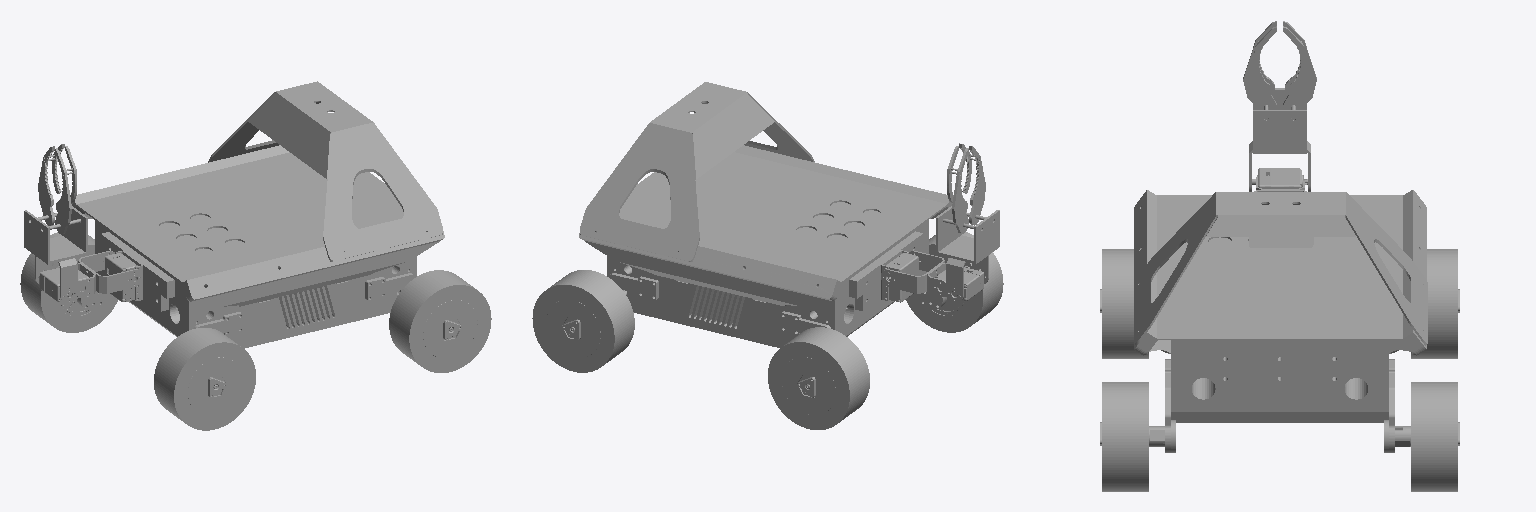
--- Facts derived from the render (not from the file) ---
3 views of the same robot in one strip: view 1: azimuth 30°, elevation 25°; view 2: azimuth 150°, elevation 25°; view 3: azimuth 270°, elevation 25° (orthographic).
Model v6 with 24 links and 23 joints (8 continuous, 15 fixed), rooted at base_link, posed all joints at 0.
Visible links, largest first — view 1: upper_blue_v1_1, upper_silver_v1_1, base_link, new_wheel_v1_1, new_wheel_v1__2__1, new_wheel_v1__2___1__1, grap_base_v1_1, big_U_self_v2_1, grap2_v2_Mirror__1, grap2_v2_1, big_U_self_v2__1__1, car_stand_v2_1 (+3 smaller); view 2: upper_blue_v1_1, upper_silver_v1_1, base_link, new_wheel_v1__2___1__1, new_wheel_v1__1__1, new_wheel_v1__2__1, grap_base_v1_1, big_U_self_v2_1, grap2_v2_1, grap2_v2_Mirror__1, big_U_self_v2__1__1, car_stand_v2__1__1 (+3 smaller); view 3: upper_blue_v1_1, base_link, upper_silver_v1_1, new_wheel_v1_1, new_wheel_v1__1__1, new_wheel_v1__2__1, new_wheel_v1__2___1__1, grap_base_v1_1, grap2_v2_1, grap2_v2_Mirror__1, new_motor_v2__1__1, car_stand_v2_1 (+1 smaller).
Boxes of the visible links, x1=… form: upper_blue_v1_1: x1=72, y1=145, x2=444, y2=306; upper_silver_v1_1: x1=208, y1=81, x2=442, y2=261; base_link: x1=95, y1=215, x2=416, y2=348; new_wheel_v1_1: x1=389, y1=270, x2=491, y2=372; new_wheel_v1__2__1: x1=154, y1=328, x2=255, y2=430; new_wheel_v1__2___1__1: x1=20, y1=232, x2=117, y2=332; grap_base_v1_1: x1=24, y1=206, x2=87, y2=264; big_U_self_v2_1: x1=78, y1=251, x2=142, y2=293; grap2_v2_Mirror__1: x1=55, y1=146, x2=76, y2=234; grap2_v2_1: x1=38, y1=144, x2=64, y2=225; big_U_self_v2__1__1: x1=35, y1=256, x2=77, y2=303; car_stand_v2_1: x1=365, y1=273, x2=415, y2=300; upper_blue_v1_1: x1=579, y1=145, x2=952, y2=306; upper_silver_v1_1: x1=580, y1=82, x2=814, y2=261; base_link: x1=607, y1=202, x2=928, y2=347; new_wheel_v1__2___1__1: x1=768, y1=327, x2=869, y2=429; new_wheel_v1__1__1: x1=532, y1=270, x2=634, y2=372; new_wheel_v1__2__1: x1=906, y1=232, x2=1003, y2=332; grap_base_v1_1: x1=936, y1=206, x2=999, y2=263; big_U_self_v2_1: x1=881, y1=251, x2=944, y2=293; grap2_v2_1: x1=947, y1=146, x2=968, y2=233; grap2_v2_Mirror__1: x1=959, y1=143, x2=985, y2=225; big_U_self_v2__1__1: x1=946, y1=255, x2=988, y2=302; car_stand_v2__1__1: x1=608, y1=273, x2=658, y2=300; upper_blue_v1_1: x1=1134, y1=190, x2=1426, y2=355; base_link: x1=1171, y1=237, x2=1388, y2=422; upper_silver_v1_1: x1=1135, y1=192, x2=1427, y2=345; new_wheel_v1_1: x1=1100, y1=382, x2=1164, y2=491; new_wheel_v1__1__1: x1=1395, y1=382, x2=1459, y2=491; new_wheel_v1__2__1: x1=1100, y1=249, x2=1148, y2=358; new_wheel_v1__2___1__1: x1=1411, y1=249, x2=1459, y2=358; grap_base_v1_1: x1=1253, y1=88, x2=1306, y2=153; grap2_v2_1: x1=1283, y1=21, x2=1316, y2=109; grap2_v2_Mirror__1: x1=1243, y1=21, x2=1276, y2=109; new_motor_v2__1__1: x1=1252, y1=168, x2=1307, y2=188; car_stand_v2_1: x1=1165, y1=359, x2=1170, y2=452.
Size in the robot's own frame: 0.4641 by 0.3306 by 0.2882 metres.
Meshes: 24 distinct files referenced, 24 mesh visuals loaded (24 binary STL).

The robot description file, URDF, robot "v6":
<?xml version="1.0" ?>
<!--===================================================================================-->
<!-- Autogenerated from v6.xacro -->
<!-- EDITING THIS FILE BY HAND IS NOT RECOMMENDED -->
<!--===================================================================================-->
<robot name="v6" xmlns:xacro="http://www.ros.org/wiki/xacro">
  <material name="silver">
    <color rgba="0.700 0.700 0.700 1.000"/>
  </material>
  <transmission name="Revolute 29_tran">
    <type>transmission_interface/SimpleTransmission</type>
    <joint name="Revolute 29">
      <hardwareInterface>hardware_interface/EffortJointInterface</hardwareInterface>
    </joint>
    <actuator name="Revolute 29_actr">
      <hardwareInterface>hardware_interface/EffortJointInterface</hardwareInterface>
      <mechanicalReduction>1</mechanicalReduction>
    </actuator>
  </transmission>
  <transmission name="Revolute 32_tran">
    <type>transmission_interface/SimpleTransmission</type>
    <joint name="Revolute 32">
      <hardwareInterface>hardware_interface/EffortJointInterface</hardwareInterface>
    </joint>
    <actuator name="Revolute 32_actr">
      <hardwareInterface>hardware_interface/EffortJointInterface</hardwareInterface>
      <mechanicalReduction>1</mechanicalReduction>
    </actuator>
  </transmission>
  <transmission name="Revolute 35_tran">
    <type>transmission_interface/SimpleTransmission</type>
    <joint name="Revolute 35">
      <hardwareInterface>hardware_interface/EffortJointInterface</hardwareInterface>
    </joint>
    <actuator name="Revolute 35_actr">
      <hardwareInterface>hardware_interface/EffortJointInterface</hardwareInterface>
      <mechanicalReduction>1</mechanicalReduction>
    </actuator>
  </transmission>
  <transmission name="Revolute 38_tran">
    <type>transmission_interface/SimpleTransmission</type>
    <joint name="Revolute 38">
      <hardwareInterface>hardware_interface/EffortJointInterface</hardwareInterface>
    </joint>
    <actuator name="Revolute 38_actr">
      <hardwareInterface>hardware_interface/EffortJointInterface</hardwareInterface>
      <mechanicalReduction>1</mechanicalReduction>
    </actuator>
  </transmission>
  <transmission name="Revolute 41_tran">
    <type>transmission_interface/SimpleTransmission</type>
    <joint name="Revolute 41">
      <hardwareInterface>hardware_interface/EffortJointInterface</hardwareInterface>
    </joint>
    <actuator name="Revolute 41_actr">
      <hardwareInterface>hardware_interface/EffortJointInterface</hardwareInterface>
      <mechanicalReduction>1</mechanicalReduction>
    </actuator>
  </transmission>
  <transmission name="Revolute 44_tran">
    <type>transmission_interface/SimpleTransmission</type>
    <joint name="Revolute 44">
      <hardwareInterface>hardware_interface/EffortJointInterface</hardwareInterface>
    </joint>
    <actuator name="Revolute 44_actr">
      <hardwareInterface>hardware_interface/EffortJointInterface</hardwareInterface>
      <mechanicalReduction>1</mechanicalReduction>
    </actuator>
  </transmission>
  <transmission name="Revolute 48_tran">
    <type>transmission_interface/SimpleTransmission</type>
    <joint name="Revolute 48">
      <hardwareInterface>hardware_interface/EffortJointInterface</hardwareInterface>
    </joint>
    <actuator name="Revolute 48_actr">
      <hardwareInterface>hardware_interface/EffortJointInterface</hardwareInterface>
      <mechanicalReduction>1</mechanicalReduction>
    </actuator>
  </transmission>
  <transmission name="Revolute 49_tran">
    <type>transmission_interface/SimpleTransmission</type>
    <joint name="Revolute 49">
      <hardwareInterface>hardware_interface/EffortJointInterface</hardwareInterface>
    </joint>
    <actuator name="Revolute 49_actr">
      <hardwareInterface>hardware_interface/EffortJointInterface</hardwareInterface>
      <mechanicalReduction>1</mechanicalReduction>
    </actuator>
  </transmission>
  <gazebo>
    <plugin filename="libgazebo_ros_control.so" name="control"/>
  </gazebo>
  <gazebo reference="base_link">
    <material>Gazebo/Silver</material>
    <mu1>0.2</mu1>
    <mu2>0.2</mu2>
    <selfCollide>true</selfCollide>
    <gravity>true</gravity>
  </gazebo>
  <gazebo reference="upper_blue_v1_1">
    <material>Gazebo/Silver</material>
    <mu1>0.2</mu1>
    <mu2>0.2</mu2>
    <selfCollide>true</selfCollide>
  </gazebo>
  <gazebo reference="upper_silver_v1_1">
    <material>Gazebo/Silver</material>
    <mu1>0.2</mu1>
    <mu2>0.2</mu2>
    <selfCollide>true</selfCollide>
  </gazebo>
  <gazebo reference="Side_U_Bracket_Component1_v2_1">
    <material>Gazebo/Silver</material>
    <mu1>0.2</mu1>
    <mu2>0.2</mu2>
    <selfCollide>true</selfCollide>
  </gazebo>
  <gazebo reference="new_motor_v2_1">
    <material>Gazebo/Silver</material>
    <mu1>0.2</mu1>
    <mu2>0.2</mu2>
    <selfCollide>true</selfCollide>
  </gazebo>
  <gazebo reference="car_stand_v2_1">
    <material>Gazebo/Silver</material>
    <mu1>0.2</mu1>
    <mu2>0.2</mu2>
    <selfCollide>true</selfCollide>
  </gazebo>
  <gazebo reference="car_stand_2_v2_v1_1">
    <material>Gazebo/Silver</material>
    <mu1>0.2</mu1>
    <mu2>0.2</mu2>
    <selfCollide>true</selfCollide>
  </gazebo>
  <gazebo reference="new_wheel_v1_1">
    <material>Gazebo/Silver</material>
    <mu1>0.2</mu1>
    <mu2>0.2</mu2>
    <selfCollide>true</selfCollide>
  </gazebo>
  <gazebo reference="car_stand_v2__1__1">
    <material>Gazebo/Silver</material>
    <mu1>0.2</mu1>
    <mu2>0.2</mu2>
    <selfCollide>true</selfCollide>
  </gazebo>
  <gazebo reference="car_stand_2_v2_v1__1__1">
    <material>Gazebo/Silver</material>
    <mu1>0.2</mu1>
    <mu2>0.2</mu2>
    <selfCollide>true</selfCollide>
  </gazebo>
  <gazebo reference="new_wheel_v1__1__1">
    <material>Gazebo/Silver</material>
    <mu1>0.2</mu1>
    <mu2>0.2</mu2>
    <selfCollide>true</selfCollide>
  </gazebo>
  <gazebo reference="car_stand_v2__2__1">
    <material>Gazebo/Silver</material>
    <mu1>0.2</mu1>
    <mu2>0.2</mu2>
    <selfCollide>true</selfCollide>
  </gazebo>
  <gazebo reference="car_stand_2_v2_v1__2__1">
    <material>Gazebo/Silver</material>
    <mu1>0.2</mu1>
    <mu2>0.2</mu2>
    <selfCollide>true</selfCollide>
  </gazebo>
  <gazebo reference="new_wheel_v1__2__1">
    <material>Gazebo/Silver</material>
    <mu1>0.2</mu1>
    <mu2>0.2</mu2>
    <selfCollide>true</selfCollide>
  </gazebo>
  <gazebo reference="car_stand_v2__2___1__1">
    <material>Gazebo/Silver</material>
    <mu1>0.2</mu1>
    <mu2>0.2</mu2>
    <selfCollide>true</selfCollide>
  </gazebo>
  <gazebo reference="car_stand_2_v2_v1__2___1__1">
    <material>Gazebo/Silver</material>
    <mu1>0.2</mu1>
    <mu2>0.2</mu2>
    <selfCollide>true</selfCollide>
  </gazebo>
  <gazebo reference="new_wheel_v1__2___1__1">
    <material>Gazebo/Silver</material>
    <mu1>0.2</mu1>
    <mu2>0.2</mu2>
    <selfCollide>true</selfCollide>
  </gazebo>
  <gazebo reference="big_U_self_v2_1">
    <material>Gazebo/Silver</material>
    <mu1>0.2</mu1>
    <mu2>0.2</mu2>
    <selfCollide>true</selfCollide>
  </gazebo>
  <gazebo reference="small_U_self_v3_v2_1">
    <material>Gazebo/Silver</material>
    <mu1>0.2</mu1>
    <mu2>0.2</mu2>
    <selfCollide>true</selfCollide>
  </gazebo>
  <gazebo reference="new_motor_v2__1__1">
    <material>Gazebo/Silver</material>
    <mu1>0.2</mu1>
    <mu2>0.2</mu2>
    <selfCollide>true</selfCollide>
  </gazebo>
  <gazebo reference="big_U_self_v2__1__1">
    <material>Gazebo/Silver</material>
    <mu1>0.2</mu1>
    <mu2>0.2</mu2>
    <selfCollide>true</selfCollide>
  </gazebo>
  <gazebo reference="grap_base_v1_1">
    <material>Gazebo/Silver</material>
    <mu1>0.2</mu1>
    <mu2>0.2</mu2>
    <selfCollide>true</selfCollide>
  </gazebo>
  <gazebo reference="grap2_v2_1">
    <material>Gazebo/Silver</material>
    <mu1>0.2</mu1>
    <mu2>0.2</mu2>
    <selfCollide>true</selfCollide>
  </gazebo>
  <gazebo reference="grap2_v2_Mirror__1">
    <material>Gazebo/Silver</material>
    <mu1>0.2</mu1>
    <mu2>0.2</mu2>
    <selfCollide>true</selfCollide>
  </gazebo>
  <link name="base_link">
    <inertial>
      <origin rpy="0 0 0" xyz="-0.11553126426818264 0.3343509101041353 0.06210098740688249"/>
      <mass value="37.56290080252228"/>
      <inertia ixx="0.155633" ixy="-0.0" ixz="0.000286" iyy="0.297492" iyz="0.0" izz="0.386843"/>
    </inertial>
    <visual>
      <origin rpy="0 0 0" xyz="0 0 0"/>
      <geometry>
        <mesh filename="package://v6_description/meshes/base_link.stl" scale="0.001 0.001 0.001"/>
      </geometry>
      <material name="silver"/>
    </visual>
    <collision>
      <origin rpy="0 0 0" xyz="0 0 0"/>
      <geometry>
        <mesh filename="package://v6_description/meshes/base_link.stl" scale="0.001 0.001 0.001"/>
      </geometry>
    </collision>
  </link>
  <link name="upper_blue_v1_1">
    <inertial>
      <origin rpy="0 0 0" xyz="0.0009557467788307433 0.0018926108398634733 -0.005546368824775272"/>
      <mass value="2.711654241548037"/>
      <inertia ixx="0.029512" ixy="4.7e-05" ixz="-1.7e-05" iyy="0.020937" iyz="-2e-05" izz="0.049756"/>
    </inertial>
    <visual>
      <origin rpy="0 0 0" xyz="0.114065 -0.334351 -0.110913"/>
      <geometry>
        <mesh filename="package://v6_description/meshes/upper_blue_v1_1.stl" scale="0.001 0.001 0.001"/>
      </geometry>
      <material name="silver"/>
    </visual>
    <collision>
      <origin rpy="0 0 0" xyz="0.114065 -0.334351 -0.110913"/>
      <geometry>
        <mesh filename="package://v6_description/meshes/upper_blue_v1_1.stl" scale="0.001 0.001 0.001"/>
      </geometry>
    </collision>
  </link>
  <link name="upper_silver_v1_1">
    <inertial>
      <origin rpy="0 0 0" xyz="-0.05397145103461684 0.12865565118005895 0.06340297559246169"/>
      <mass value="0.5824308278195107"/>
      <inertia ixx="0.00486" ixy="0.0" ixz="2.4e-05" iyy="0.001444" iyz="-0.0" izz="0.004712"/>
    </inertial>
    <visual>
      <origin rpy="0 0 0" xyz="-0.020935 -0.20677 -0.110239"/>
      <geometry>
        <mesh filename="package://v6_description/meshes/upper_silver_v1_1.stl" scale="0.001 0.001 0.001"/>
      </geometry>
      <material name="silver"/>
    </visual>
    <collision>
      <origin rpy="0 0 0" xyz="-0.020935 -0.20677 -0.110239"/>
      <geometry>
        <mesh filename="package://v6_description/meshes/upper_silver_v1_1.stl" scale="0.001 0.001 0.001"/>
      </geometry>
    </collision>
  </link>
  <link name="Side_U_Bracket_Component1_v2_1">
    <inertial>
      <origin rpy="0 0 0" xyz="-0.0021965017854476687 -8.991875011243877e-08 -8.398858180322377e-05"/>
      <mass value="0.02951040982880665"/>
      <inertia ixx="1.1e-05" ixy="0.0" ixz="-0.0" iyy="4e-06" iyz="-0.0" izz="7e-06"/>
    </inertial>
    <visual>
      <origin rpy="0 0 0" xyz="0.264049 -0.334351 -0.074934"/>
      <geometry>
        <mesh filename="package://v6_description/meshes/Side_U_Bracket_Component1_v2_1.stl" scale="0.001 0.001 0.001"/>
      </geometry>
      <material name="silver"/>
    </visual>
    <collision>
      <origin rpy="0 0 0" xyz="0.264049 -0.334351 -0.074934"/>
      <geometry>
        <mesh filename="package://v6_description/meshes/Side_U_Bracket_Component1_v2_1.stl" scale="0.001 0.001 0.001"/>
      </geometry>
    </collision>
  </link>
  <link name="new_motor_v2_1">
    <inertial>
      <origin rpy="0 0 0" xyz="-0.007329192500702741 -0.022426817930538745 0.017705283950517715"/>
      <mass value="0.2036448419526595"/>
      <inertia ixx="5.1e-05" ixy="-0.0" ixz="-0.0" iyy="3.5e-05" iyz="-0.0" izz="3e-05"/>
    </inertial>
    <visual>
      <origin rpy="0 0 0" xyz="0.271362 -0.354601 -0.057401"/>
      <geometry>
        <mesh filename="package://v6_description/meshes/new_motor_v2_1.stl" scale="0.001 0.001 0.001"/>
      </geometry>
      <material name="silver"/>
    </visual>
    <collision>
      <origin rpy="0 0 0" xyz="0.271362 -0.354601 -0.057401"/>
      <geometry>
        <mesh filename="package://v6_description/meshes/new_motor_v2_1.stl" scale="0.001 0.001 0.001"/>
      </geometry>
    </collision>
  </link>
  <link name="car_stand_v2_1">
    <inertial>
      <origin rpy="0 0 0" xyz="0.03988982720191274 -0.0025000899185844416 -0.017953891628120888"/>
      <mass value="0.06574803361092448"/>
      <inertia ixx="1.6e-05" ixy="0.0" ixz="1.6e-05" iyy="5.4e-05" iyz="0.0" izz="3.7e-05"/>
    </inertial>
    <visual>
      <origin rpy="0 0 0" xyz="0.034705 -0.234351 -0.052597"/>
      <geometry>
        <mesh filename="package://v6_description/meshes/car_stand_v2_1.stl" scale="0.001 0.001 0.001"/>
      </geometry>
      <material name="silver"/>
    </visual>
    <collision>
      <origin rpy="0 0 0" xyz="0.034705 -0.234351 -0.052597"/>
      <geometry>
        <mesh filename="package://v6_description/meshes/car_stand_v2_1.stl" scale="0.001 0.001 0.001"/>
      </geometry>
    </collision>
  </link>
  <link name="car_stand_2_v2_v1_1">
    <inertial>
      <origin rpy="0 0 0" xyz="-0.008838436779542623 0.0024999100814157293 -0.008838742405980921"/>
      <mass value="0.025649195499023388"/>
      <inertia ixx="1e-06" ixy="0.0" ixz="0.0" iyy="3e-06" iyz="0.0" izz="1e-06"/>
    </inertial>
    <visual>
      <origin rpy="0 0 0" xyz="-0.038906 -0.234351 -0.017587"/>
      <geometry>
        <mesh filename="package://v6_description/meshes/car_stand_2_v2_v1_1.stl" scale="0.001 0.001 0.001"/>
      </geometry>
      <material name="silver"/>
    </visual>
    <collision>
      <origin rpy="0 0 0" xyz="-0.038906 -0.234351 -0.017587"/>
      <geometry>
        <mesh filename="package://v6_description/meshes/car_stand_2_v2_v1_1.stl" scale="0.001 0.001 0.001"/>
      </geometry>
    </collision>
  </link>
  <link name="new_wheel_v1_1">
    <inertial>
      <origin rpy="0 0 0" xyz="-7.661286367220688e-07 -0.03633722962657118 1.709065836411755e-06"/>
      <mass value="2.7644063382593123"/>
      <inertia ixx="0.002173" ixy="-0.0" ixz="0.0" iyy="0.003475" iyz="-0.0" izz="0.002173"/>
    </inertial>
    <visual>
      <origin rpy="0 0 0" xyz="-0.030068 -0.229351 -0.008748"/>
      <geometry>
        <mesh filename="package://v6_description/meshes/new_wheel_v1_1.stl" scale="0.001 0.001 0.001"/>
      </geometry>
      <material name="silver"/>
    </visual>
    <collision>
      <origin rpy="0 0 0" xyz="-0.030068 -0.229351 -0.008748"/>
      <geometry>
        <mesh filename="package://v6_description/meshes/new_wheel_v1_1.stl" scale="0.001 0.001 0.001"/>
      </geometry>
    </collision>
  </link>
  <link name="car_stand_v2__1__1">
    <inertial>
      <origin rpy="0 0 0" xyz="0.03988982720191739 0.0024999100814168673 -0.017953891628120867"/>
      <mass value="0.06574803361092448"/>
      <inertia ixx="1.6e-05" ixy="0.0" ixz="1.6e-05" iyy="5.4e-05" iyz="0.0" izz="3.7e-05"/>
    </inertial>
    <visual>
      <origin rpy="0 0 0" xyz="0.034705 -0.434351 -0.052597"/>
      <geometry>
        <mesh filename="package://v6_description/meshes/car_stand_v2__1__1.stl" scale="0.001 0.001 0.001"/>
      </geometry>
      <material name="silver"/>
    </visual>
    <collision>
      <origin rpy="0 0 0" xyz="0.034705 -0.434351 -0.052597"/>
      <geometry>
        <mesh filename="package://v6_description/meshes/car_stand_v2__1__1.stl" scale="0.001 0.001 0.001"/>
      </geometry>
    </collision>
  </link>
  <link name="car_stand_2_v2_v1__1__1">
    <inertial>
      <origin rpy="0 0 0" xyz="-0.008838436779537981 -0.002500089918583026 -0.008838742405980895"/>
      <mass value="0.025649195499023388"/>
      <inertia ixx="1e-06" ixy="-0.0" ixz="0.0" iyy="3e-06" iyz="0.0" izz="1e-06"/>
    </inertial>
    <visual>
      <origin rpy="0 0 0" xyz="-0.038906 -0.434351 -0.017587"/>
      <geometry>
        <mesh filename="package://v6_description/meshes/car_stand_2_v2_v1__1__1.stl" scale="0.001 0.001 0.001"/>
      </geometry>
      <material name="silver"/>
    </visual>
    <collision>
      <origin rpy="0 0 0" xyz="-0.038906 -0.434351 -0.017587"/>
      <geometry>
        <mesh filename="package://v6_description/meshes/car_stand_2_v2_v1__1__1.stl" scale="0.001 0.001 0.001"/>
      </geometry>
    </collision>
  </link>
  <link name="new_wheel_v1__1__1">
    <inertial>
      <origin rpy="0 0 0" xyz="-7.66128632066071e-07 0.036337049789403775 -1.1938777991337551e-06"/>
      <mass value="2.7644063382593123"/>
      <inertia ixx="0.002173" ixy="0.0" ixz="-0.0" iyy="0.003475" iyz="-0.0" izz="0.002173"/>
    </inertial>
    <visual>
      <origin rpy="0 0 0" xyz="-0.030068 -0.439351 -0.008748"/>
      <geometry>
        <mesh filename="package://v6_description/meshes/new_wheel_v1__1__1.stl" scale="0.001 0.001 0.001"/>
      </geometry>
      <material name="silver"/>
    </visual>
    <collision>
      <origin rpy="0 0 0" xyz="-0.030068 -0.439351 -0.008748"/>
      <geometry>
        <mesh filename="package://v6_description/meshes/new_wheel_v1__1__1.stl" scale="0.001 0.001 0.001"/>
      </geometry>
    </collision>
  </link>
  <link name="car_stand_v2__2__1">
    <inertial>
      <origin rpy="0 0 0" xyz="-0.039890552712641136 -0.002500089918581444 -0.01795389162812419"/>
      <mass value="0.06574803361092448"/>
      <inertia ixx="1.6e-05" ixy="0.0" ixz="-1.6e-05" iyy="5.4e-05" iyz="-0.0" izz="3.7e-05"/>
    </inertial>
    <visual>
      <origin rpy="0 0 0" xyz="0.193373 -0.234351 -0.052597"/>
      <geometry>
        <mesh filename="package://v6_description/meshes/car_stand_v2__2__1.stl" scale="0.001 0.001 0.001"/>
      </geometry>
      <material name="silver"/>
    </visual>
    <collision>
      <origin rpy="0 0 0" xyz="0.193373 -0.234351 -0.052597"/>
      <geometry>
        <mesh filename="package://v6_description/meshes/car_stand_v2__2__1.stl" scale="0.001 0.001 0.001"/>
      </geometry>
    </collision>
  </link>
  <link name="car_stand_2_v2_v1__2__1">
    <inertial>
      <origin rpy="0 0 0" xyz="0.00883871126878566 0.0024999100814186437 -0.008838742405986177"/>
      <mass value="0.025649195499023388"/>
      <inertia ixx="1e-06" ixy="0.0" ixz="0.0" iyy="3e-06" iyz="-0.0" izz="1e-06"/>
    </inertial>
    <visual>
      <origin rpy="0 0 0" xyz="0.266985 -0.234351 -0.017587"/>
      <geometry>
        <mesh filename="package://v6_description/meshes/car_stand_2_v2_v1__2__1.stl" scale="0.001 0.001 0.001"/>
      </geometry>
      <material name="silver"/>
    </visual>
    <collision>
      <origin rpy="0 0 0" xyz="0.266985 -0.234351 -0.017587"/>
      <geometry>
        <mesh filename="package://v6_description/meshes/car_stand_2_v2_v1__2__1.stl" scale="0.001 0.001 0.001"/>
      </geometry>
    </collision>
  </link>
  <link name="new_wheel_v1__2__1">
    <inertial>
      <origin rpy="0 0 0" xyz="-6.180803067135088e-07 -0.03633722962656821 1.7090658331400665e-06"/>
      <mass value="2.7644063382593123"/>
      <inertia ixx="0.002173" ixy="-0.0" ixz="0.0" iyy="0.003475" iyz="-0.0" izz="0.002173"/>
    </inertial>
    <visual>
      <origin rpy="0 0 0" xyz="0.258146 -0.229351 -0.008748"/>
      <geometry>
        <mesh filename="package://v6_description/meshes/new_wheel_v1__2__1.stl" scale="0.001 0.001 0.001"/>
      </geometry>
      <material name="silver"/>
    </visual>
    <collision>
      <origin rpy="0 0 0" xyz="0.258146 -0.229351 -0.008748"/>
      <geometry>
        <mesh filename="package://v6_description/meshes/new_wheel_v1__2__1.stl" scale="0.001 0.001 0.001"/>
      </geometry>
    </collision>
  </link>
  <link name="car_stand_v2__2___1__1">
    <inertial>
      <origin rpy="0 0 0" xyz="-0.02389055271263707 0.002499910081420531 -0.017953891628124496"/>
      <mass value="0.06574803361092448"/>
      <inertia ixx="1.6e-05" ixy="0.0" ixz="-1.6e-05" iyy="5.4e-05" iyz="0.0" izz="3.7e-05"/>
    </inertial>
    <visual>
      <origin rpy="0 0 0" xyz="0.209373 -0.434351 -0.052597"/>
      <geometry>
        <mesh filename="package://v6_description/meshes/car_stand_v2__2___1__1.stl" scale="0.001 0.001 0.001"/>
      </geometry>
      <material name="silver"/>
    </visual>
    <collision>
      <origin rpy="0 0 0" xyz="0.209373 -0.434351 -0.052597"/>
      <geometry>
        <mesh filename="package://v6_description/meshes/car_stand_v2__2___1__1.stl" scale="0.001 0.001 0.001"/>
      </geometry>
    </collision>
  </link>
  <link name="car_stand_2_v2_v1__2___1__1">
    <inertial>
      <origin rpy="0 0 0" xyz="0.008838711268789712 -0.0025000899185792513 -0.008838742405986496"/>
      <mass value="0.025649195499023388"/>
      <inertia ixx="1e-06" ixy="0.0" ixz="0.0" iyy="3e-06" iyz="0.0" izz="1e-06"/>
    </inertial>
    <visual>
      <origin rpy="0 0 0" xyz="0.266985 -0.434351 -0.017587"/>
      <geometry>
        <mesh filename="package://v6_description/meshes/car_stand_2_v2_v1__2___1__1.stl" scale="0.001 0.001 0.001"/>
      </geometry>
      <material name="silver"/>
    </visual>
    <collision>
      <origin rpy="0 0 0" xyz="0.266985 -0.434351 -0.017587"/>
      <geometry>
        <mesh filename="package://v6_description/meshes/car_stand_2_v2_v1__2___1__1.stl" scale="0.001 0.001 0.001"/>
      </geometry>
    </collision>
  </link>
  <link name="new_wheel_v1__2___1__1">
    <inertial>
      <origin rpy="0 0 0" xyz="-6.180803027167059e-07 0.036337049789407494 -1.1938778027593272e-06"/>
      <mass value="2.7644063382593123"/>
      <inertia ixx="0.002173" ixy="0.0" ixz="-0.0" iyy="0.003475" iyz="-0.0" izz="0.002173"/>
    </inertial>
    <visual>
      <origin rpy="0 0 0" xyz="0.258146 -0.439351 -0.008748"/>
      <geometry>
        <mesh filename="package://v6_description/meshes/new_wheel_v1__2___1__1.stl" scale="0.001 0.001 0.001"/>
      </geometry>
      <material name="silver"/>
    </visual>
    <collision>
      <origin rpy="0 0 0" xyz="0.258146 -0.439351 -0.008748"/>
      <geometry>
        <mesh filename="package://v6_description/meshes/new_wheel_v1__2___1__1.stl" scale="0.001 0.001 0.001"/>
      </geometry>
    </collision>
  </link>
  <link name="big_U_self_v2_1">
    <inertial>
      <origin rpy="0 0 0" xyz="-0.02423767526178927 -8.991950056769227e-08 -8.853660350069403e-06"/>
      <mass value="0.041847447766480805"/>
      <inertia ixx="2.4e-05" ixy="0.0" ixz="-0.0" iyy="1.1e-05" iyz="-0.0" izz="3.2e-05"/>
    </inertial>
    <visual>
      <origin rpy="0 0 0" xyz="0.278674 -0.334851 -0.085006"/>
      <geometry>
        <mesh filename="package://v6_description/meshes/big_U_self_v2_1.stl" scale="0.001 0.001 0.001"/>
      </geometry>
      <material name="silver"/>
    </visual>
    <collision>
      <origin rpy="0 0 0" xyz="0.278674 -0.334851 -0.085006"/>
      <geometry>
        <mesh filename="package://v6_description/meshes/big_U_self_v2_1.stl" scale="0.001 0.001 0.001"/>
      </geometry>
    </collision>
  </link>
  <link name="small_U_self_v3_v2_1">
    <inertial>
      <origin rpy="0 0 0" xyz="-0.009287648733685094 -0.0005384482220820441 -3.1143207411127305e-06"/>
      <mass value="0.025534175468152884"/>
      <inertia ixx="9e-06" ixy="-0.0" ixz="-0.0" iyy="3e-06" iyz="-0.0" izz="1e-05"/>
    </inertial>
    <visual>
      <origin rpy="0 0 0" xyz="0.318674 -0.334851 -0.084991"/>
      <geometry>
        <mesh filename="package://v6_description/meshes/small_U_self_v3_v2_1.stl" scale="0.001 0.001 0.001"/>
      </geometry>
      <material name="silver"/>
    </visual>
    <collision>
      <origin rpy="0 0 0" xyz="0.318674 -0.334851 -0.084991"/>
      <geometry>
        <mesh filename="package://v6_description/meshes/small_U_self_v3_v2_1.stl" scale="0.001 0.001 0.001"/>
      </geometry>
    </collision>
  </link>
  <link name="new_motor_v2__1__1">
    <inertial>
      <origin rpy="0 0 0" xyz="-0.0026535935407322464 0.02242666042984809 -0.007555050277332054"/>
      <mass value="0.20364393858439991"/>
      <inertia ixx="3e-05" ixy="-0.0" ixz="-0.0" iyy="3.5e-05" iyz="-0.0" izz="5.1e-05"/>
    </inertial>
    <visual>
      <origin rpy="0 0 0" xyz="0.346177 -0.314601 -0.092481"/>
      <geometry>
        <mesh filename="package://v6_description/meshes/new_motor_v2__1__1.stl" scale="0.001 0.001 0.001"/>
      </geometry>
      <material name="silver"/>
    </visual>
    <collision>
      <origin rpy="0 0 0" xyz="0.346177 -0.314601 -0.092481"/>
      <geometry>
        <mesh filename="package://v6_description/meshes/new_motor_v2__1__1.stl" scale="0.001 0.001 0.001"/>
      </geometry>
    </collision>
  </link>
  <link name="big_U_self_v2__1__1">
    <inertial>
      <origin rpy="0 0 0" xyz="-9.12643416350889e-06 -8.993477979002407e-08 0.024237117404991515"/>
      <mass value="0.04184744776647988"/>
      <inertia ixx="3.2e-05" ixy="0.0" ixz="0.0" iyy="1.1e-05" iyz="-0.0" izz="2.4e-05"/>
    </inertial>
    <visual>
      <origin rpy="0 0 0" xyz="0.358674 -0.334351 -0.084977"/>
      <geometry>
        <mesh filename="package://v6_description/meshes/big_U_self_v2__1__1.stl" scale="0.001 0.001 0.001"/>
      </geometry>
      <material name="silver"/>
    </visual>
    <collision>
      <origin rpy="0 0 0" xyz="0.358674 -0.334351 -0.084977"/>
      <geometry>
        <mesh filename="package://v6_description/meshes/big_U_self_v2__1__1.stl" scale="0.001 0.001 0.001"/>
      </geometry>
    </collision>
  </link>
  <link name="grap_base_v1_1">
    <inertial>
      <origin rpy="0 0 0" xyz="5.0604957804400996e-05 -8.993024042114328e-08 0.01574867865416396"/>
      <mass value="0.16096668074514336"/>
      <inertia ixx="6.6e-05" ixy="-0.0" ixz="-0.0" iyy="9.8e-05" iyz="-0.0" izz="9.8e-05"/>
    </inertial>
    <visual>
      <origin rpy="0 0 0" xyz="0.358689 -0.334351 -0.124977"/>
      <geometry>
        <mesh filename="package://v6_description/meshes/grap_base_v1_1.stl" scale="0.001 0.001 0.001"/>
      </geometry>
      <material name="silver"/>
    </visual>
    <collision>
      <origin rpy="0 0 0" xyz="0.358689 -0.334351 -0.124977"/>
      <geometry>
        <mesh filename="package://v6_description/meshes/grap_base_v1_1.stl" scale="0.001 0.001 0.001"/>
      </geometry>
    </collision>
  </link>
  <link name="grap2_v2_1">
    <inertial>
      <origin rpy="0 0 0" xyz="0.0011003881163325624 0.005586980664124386 0.0328376081661004"/>
      <mass value="0.040626783640930766"/>
      <inertia ixx="2.7e-05" ixy="0.0" ixz="-2e-06" iyy="2.6e-05" iyz="0.0" izz="3e-06"/>
    </inertial>
    <visual>
      <origin rpy="0 0 0" xyz="0.358702 -0.346851 -0.160477"/>
      <geometry>
        <mesh filename="package://v6_description/meshes/grap2_v2_1.stl" scale="0.001 0.001 0.001"/>
      </geometry>
      <material name="silver"/>
    </visual>
    <collision>
      <origin rpy="0 0 0" xyz="0.358702 -0.346851 -0.160477"/>
      <geometry>
        <mesh filename="package://v6_description/meshes/grap2_v2_1.stl" scale="0.001 0.001 0.001"/>
      </geometry>
    </collision>
  </link>
  <link name="grap2_v2_Mirror__1">
    <inertial>
      <origin rpy="0 0 0" xyz="0.0011003881213494937 -0.0055871605220216836 0.03283760816689857"/>
      <mass value="0.04062678364093079"/>
      <inertia ixx="2.7e-05" ixy="-0.0" ixz="-2e-06" iyy="2.6e-05" iyz="-0.0" izz="3e-06"/>
    </inertial>
    <visual>
      <origin rpy="0 0 0" xyz="0.358702 -0.321851 -0.160477"/>
      <geometry>
        <mesh filename="package://v6_description/meshes/grap2_v2_Mirror__1.stl" scale="0.001 0.001 0.001"/>
      </geometry>
      <material name="silver"/>
    </visual>
    <collision>
      <origin rpy="0 0 0" xyz="0.358702 -0.321851 -0.160477"/>
      <geometry>
        <mesh filename="package://v6_description/meshes/grap2_v2_Mirror__1.stl" scale="0.001 0.001 0.001"/>
      </geometry>
    </collision>
  </link>
  <joint name="Rigid 1" type="fixed">
    <origin rpy="0 0 0" xyz="-0.114065 0.334351 0.110913"/>
    <parent link="base_link"/>
    <child link="upper_blue_v1_1"/>
  </joint>
  <joint name="Rigid 2" type="fixed">
    <origin rpy="0 0 0" xyz="0.135 -0.127581 -0.000674"/>
    <parent link="upper_blue_v1_1"/>
    <child link="upper_silver_v1_1"/>
  </joint>
  <joint name="Rigid 3" type="fixed">
    <origin rpy="0 0 0" xyz="-0.264049 0.334351 0.074934"/>
    <parent link="base_link"/>
    <child link="Side_U_Bracket_Component1_v2_1"/>
  </joint>
  <joint name="Rigid 16" type="fixed">
    <origin rpy="0 0 0" xyz="-0.007313 0.02025 -0.017533"/>
    <parent link="Side_U_Bracket_Component1_v2_1"/>
    <child link="new_motor_v2_1"/>
  </joint>
  <joint name="Rigid 27" type="fixed">
    <origin rpy="0 0 0" xyz="-0.034705 0.234351 0.052597"/>
    <parent link="base_link"/>
    <child link="car_stand_v2_1"/>
  </joint>
  <joint name="Rigid 28" type="fixed">
    <origin rpy="0 0 0" xyz="0.073611 0.0 -0.03501"/>
    <parent link="car_stand_v2_1"/>
    <child link="car_stand_2_v2_v1_1"/>
  </joint>
  <joint name="Revolute 29" type="continuous">
    <origin rpy="0 0 0" xyz="0.064773 -0.005 -0.043849"/>
    <parent link="car_stand_v2_1"/>
    <child link="new_wheel_v1_1"/>
    <axis xyz="0.0 1.0 0.0"/>
  </joint>
  <joint name="Rigid 30" type="fixed">
    <origin rpy="0 0 0" xyz="-0.034705 0.434351 0.052597"/>
    <parent link="base_link"/>
    <child link="car_stand_v2__1__1"/>
  </joint>
  <joint name="Rigid 31" type="fixed">
    <origin rpy="0 0 0" xyz="0.073611 0.0 -0.03501"/>
    <parent link="car_stand_v2__1__1"/>
    <child link="car_stand_2_v2_v1__1__1"/>
  </joint>
  <joint name="Revolute 32" type="continuous">
    <origin rpy="0 0 0" xyz="0.064773 0.005 -0.043849"/>
    <parent link="car_stand_v2__1__1"/>
    <child link="new_wheel_v1__1__1"/>
    <axis xyz="0.0 1.0 0.0"/>
  </joint>
  <joint name="Rigid 33" type="fixed">
    <origin rpy="0 0 0" xyz="-0.193373 0.234351 0.052597"/>
    <parent link="base_link"/>
    <child link="car_stand_v2__2__1"/>
  </joint>
  <joint name="Rigid 34" type="fixed">
    <origin rpy="0 0 0" xyz="-0.073612 0.0 -0.03501"/>
    <parent link="car_stand_v2__2__1"/>
    <child link="car_stand_2_v2_v1__2__1"/>
  </joint>
  <joint name="Revolute 35" type="continuous">
    <origin rpy="0 0 0" xyz="-0.064773 -0.005 -0.043849"/>
    <parent link="car_stand_v2__2__1"/>
    <child link="new_wheel_v1__2__1"/>
    <axis xyz="0.0 -1.0 -0.0"/>
  </joint>
  <joint name="Rigid 36" type="fixed">
    <origin rpy="0 0 0" xyz="-0.209373 0.434351 0.052597"/>
    <parent link="base_link"/>
    <child link="car_stand_v2__2___1__1"/>
  </joint>
  <joint name="Rigid 37" type="fixed">
    <origin rpy="0 0 0" xyz="-0.057612 0.0 -0.03501"/>
    <parent link="car_stand_v2__2___1__1"/>
    <child link="car_stand_2_v2_v1__2___1__1"/>
  </joint>
  <joint name="Revolute 38" type="continuous">
    <origin rpy="0 0 0" xyz="-0.048773 0.005 -0.043849"/>
    <parent link="car_stand_v2__2___1__1"/>
    <child link="new_wheel_v1__2___1__1"/>
    <axis xyz="-0.0 1.0 0.0"/>
  </joint>
  <joint name="Revolute 41" type="continuous">
    <origin rpy="0 0 0" xyz="-0.007312 -0.01975 0.027605"/>
    <parent link="new_motor_v2_1"/>
    <child link="big_U_self_v2_1"/>
    <axis xyz="0.0 -1.0 0.0"/>
  </joint>
  <joint name="Rigid 42" type="fixed">
    <origin rpy="0 0 0" xyz="-0.04 0.0 -1.5e-05"/>
    <parent link="big_U_self_v2_1"/>
    <child link="small_U_self_v3_v2_1"/>
  </joint>
  <joint name="Rigid 43" type="fixed">
    <origin rpy="0 0 0" xyz="-0.027503 -0.02025 0.00749"/>
    <parent link="small_U_self_v3_v2_1"/>
    <child link="new_motor_v2__1__1"/>
  </joint>
  <joint name="Revolute 44" type="continuous">
    <origin rpy="0 0 0" xyz="-0.012497 0.01975 -0.007504"/>
    <parent link="new_motor_v2__1__1"/>
    <child link="big_U_self_v2__1__1"/>
    <axis xyz="0.0 -1.0 -0.0"/>
  </joint>
  <joint name="Rigid 45" type="fixed">
    <origin rpy="0 0 0" xyz="-1.5e-05 0.0 0.04"/>
    <parent link="big_U_self_v2__1__1"/>
    <child link="grap_base_v1_1"/>
  </joint>
  <joint name="Revolute 48" type="continuous">
    <origin rpy="0 0 0" xyz="-1.3e-05 0.0125 0.0355"/>
    <parent link="grap_base_v1_1"/>
    <child link="grap2_v2_1"/>
    <axis xyz="-1.0 -0.0 -0.00037"/>
  </joint>
  <joint name="Revolute 49" type="continuous">
    <origin rpy="0 0 0" xyz="-1.3e-05 -0.0125 0.0355"/>
    <parent link="grap_base_v1_1"/>
    <child link="grap2_v2_Mirror__1"/>
    <axis xyz="1.0 0.0 0.00037"/>
  </joint>
</robot>
